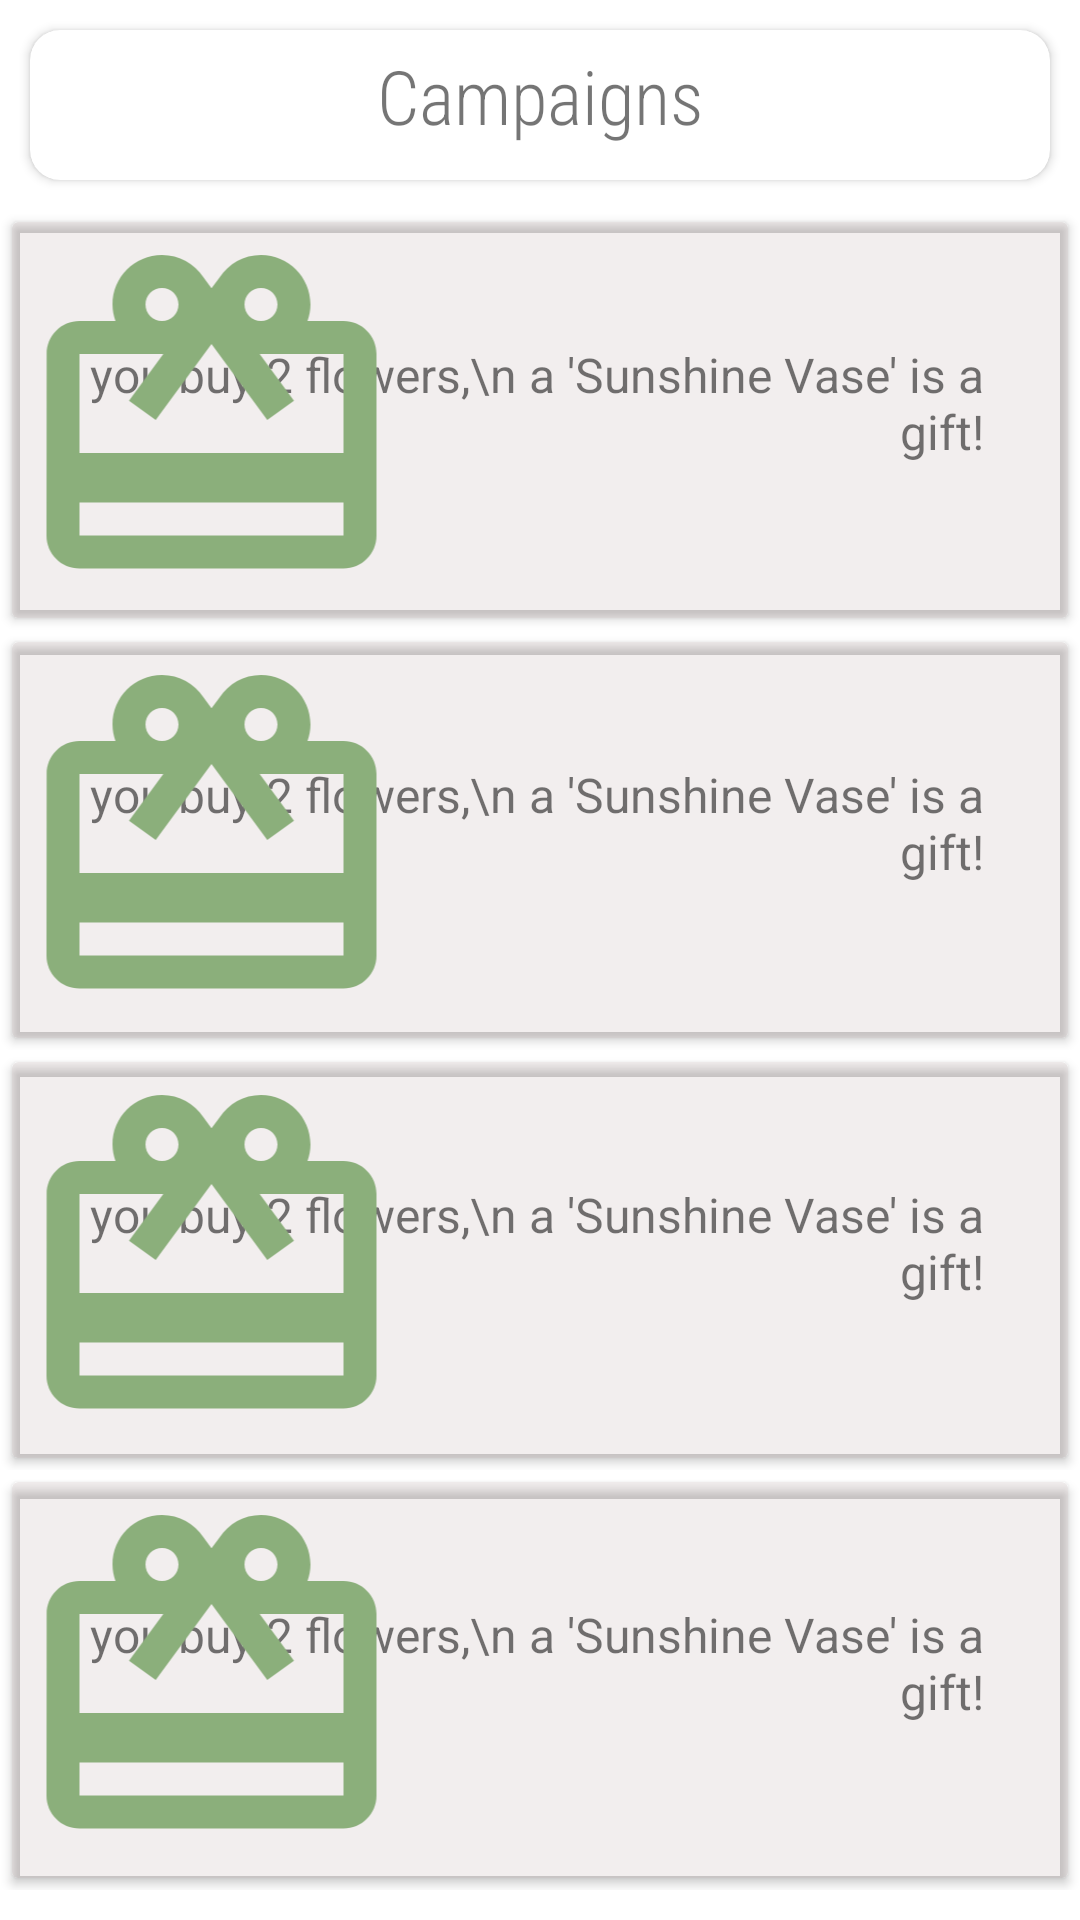

Where to tap for icons on this 1080 x 1920 app screen, as point (x, y):
card giftcard: point (220, 412), point (220, 832), point (220, 1252), point (220, 1672)
